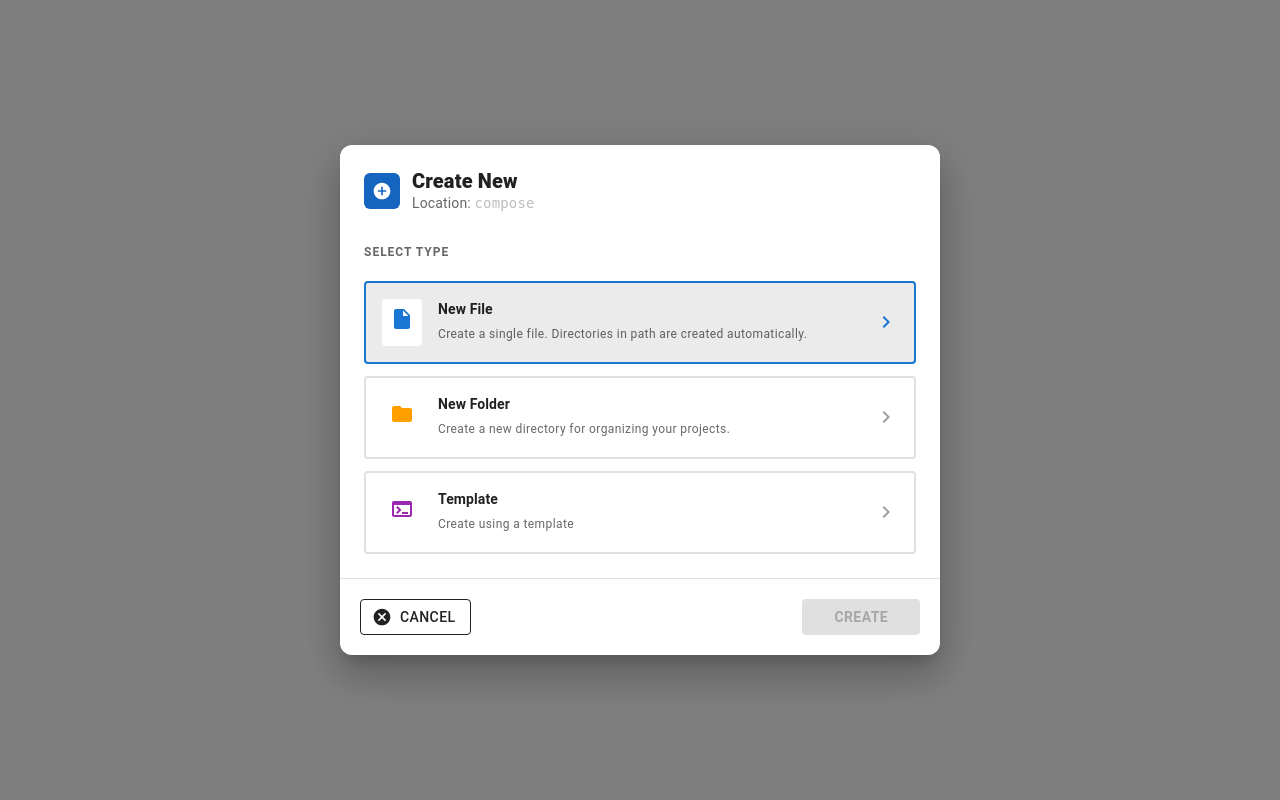
Test: FileCreate › still offers Back when creating, which does have an earlier step
Click the heading "New File": (465, 309) [438,301,493,317]
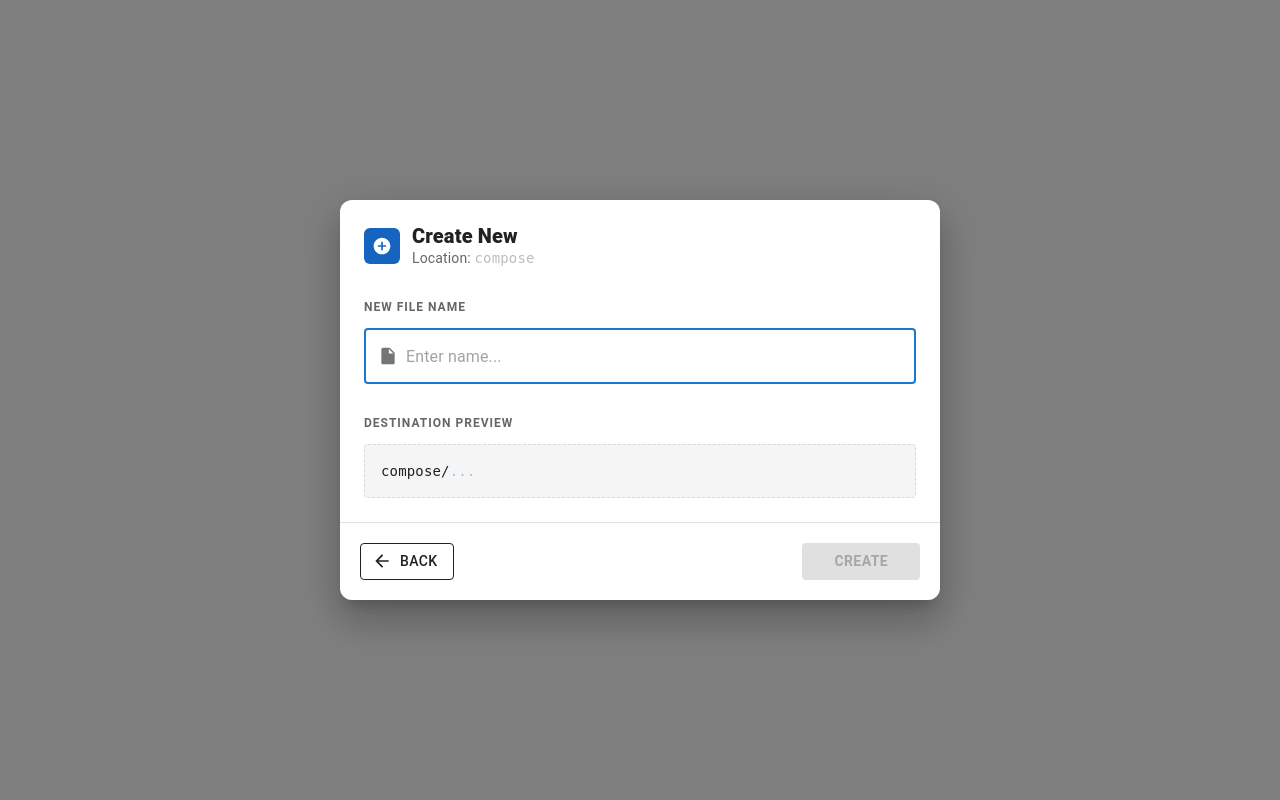
Expected: the button "Back" is shown, [360,543,454,580]
